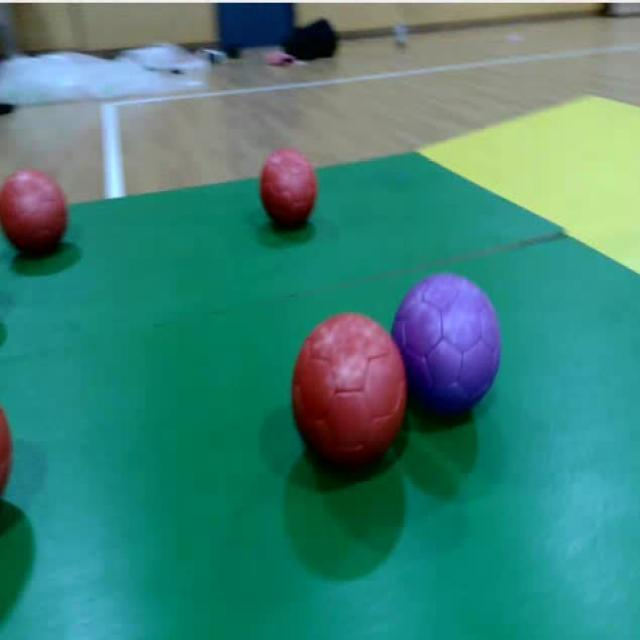purple_ball: (401, 276, 505, 423)
red_ball: (288, 312, 394, 485), (0, 166, 70, 259), (258, 153, 321, 230)
